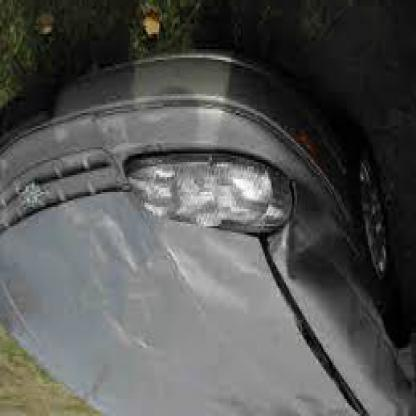dent: (276, 220, 350, 298), (293, 392, 334, 415)
